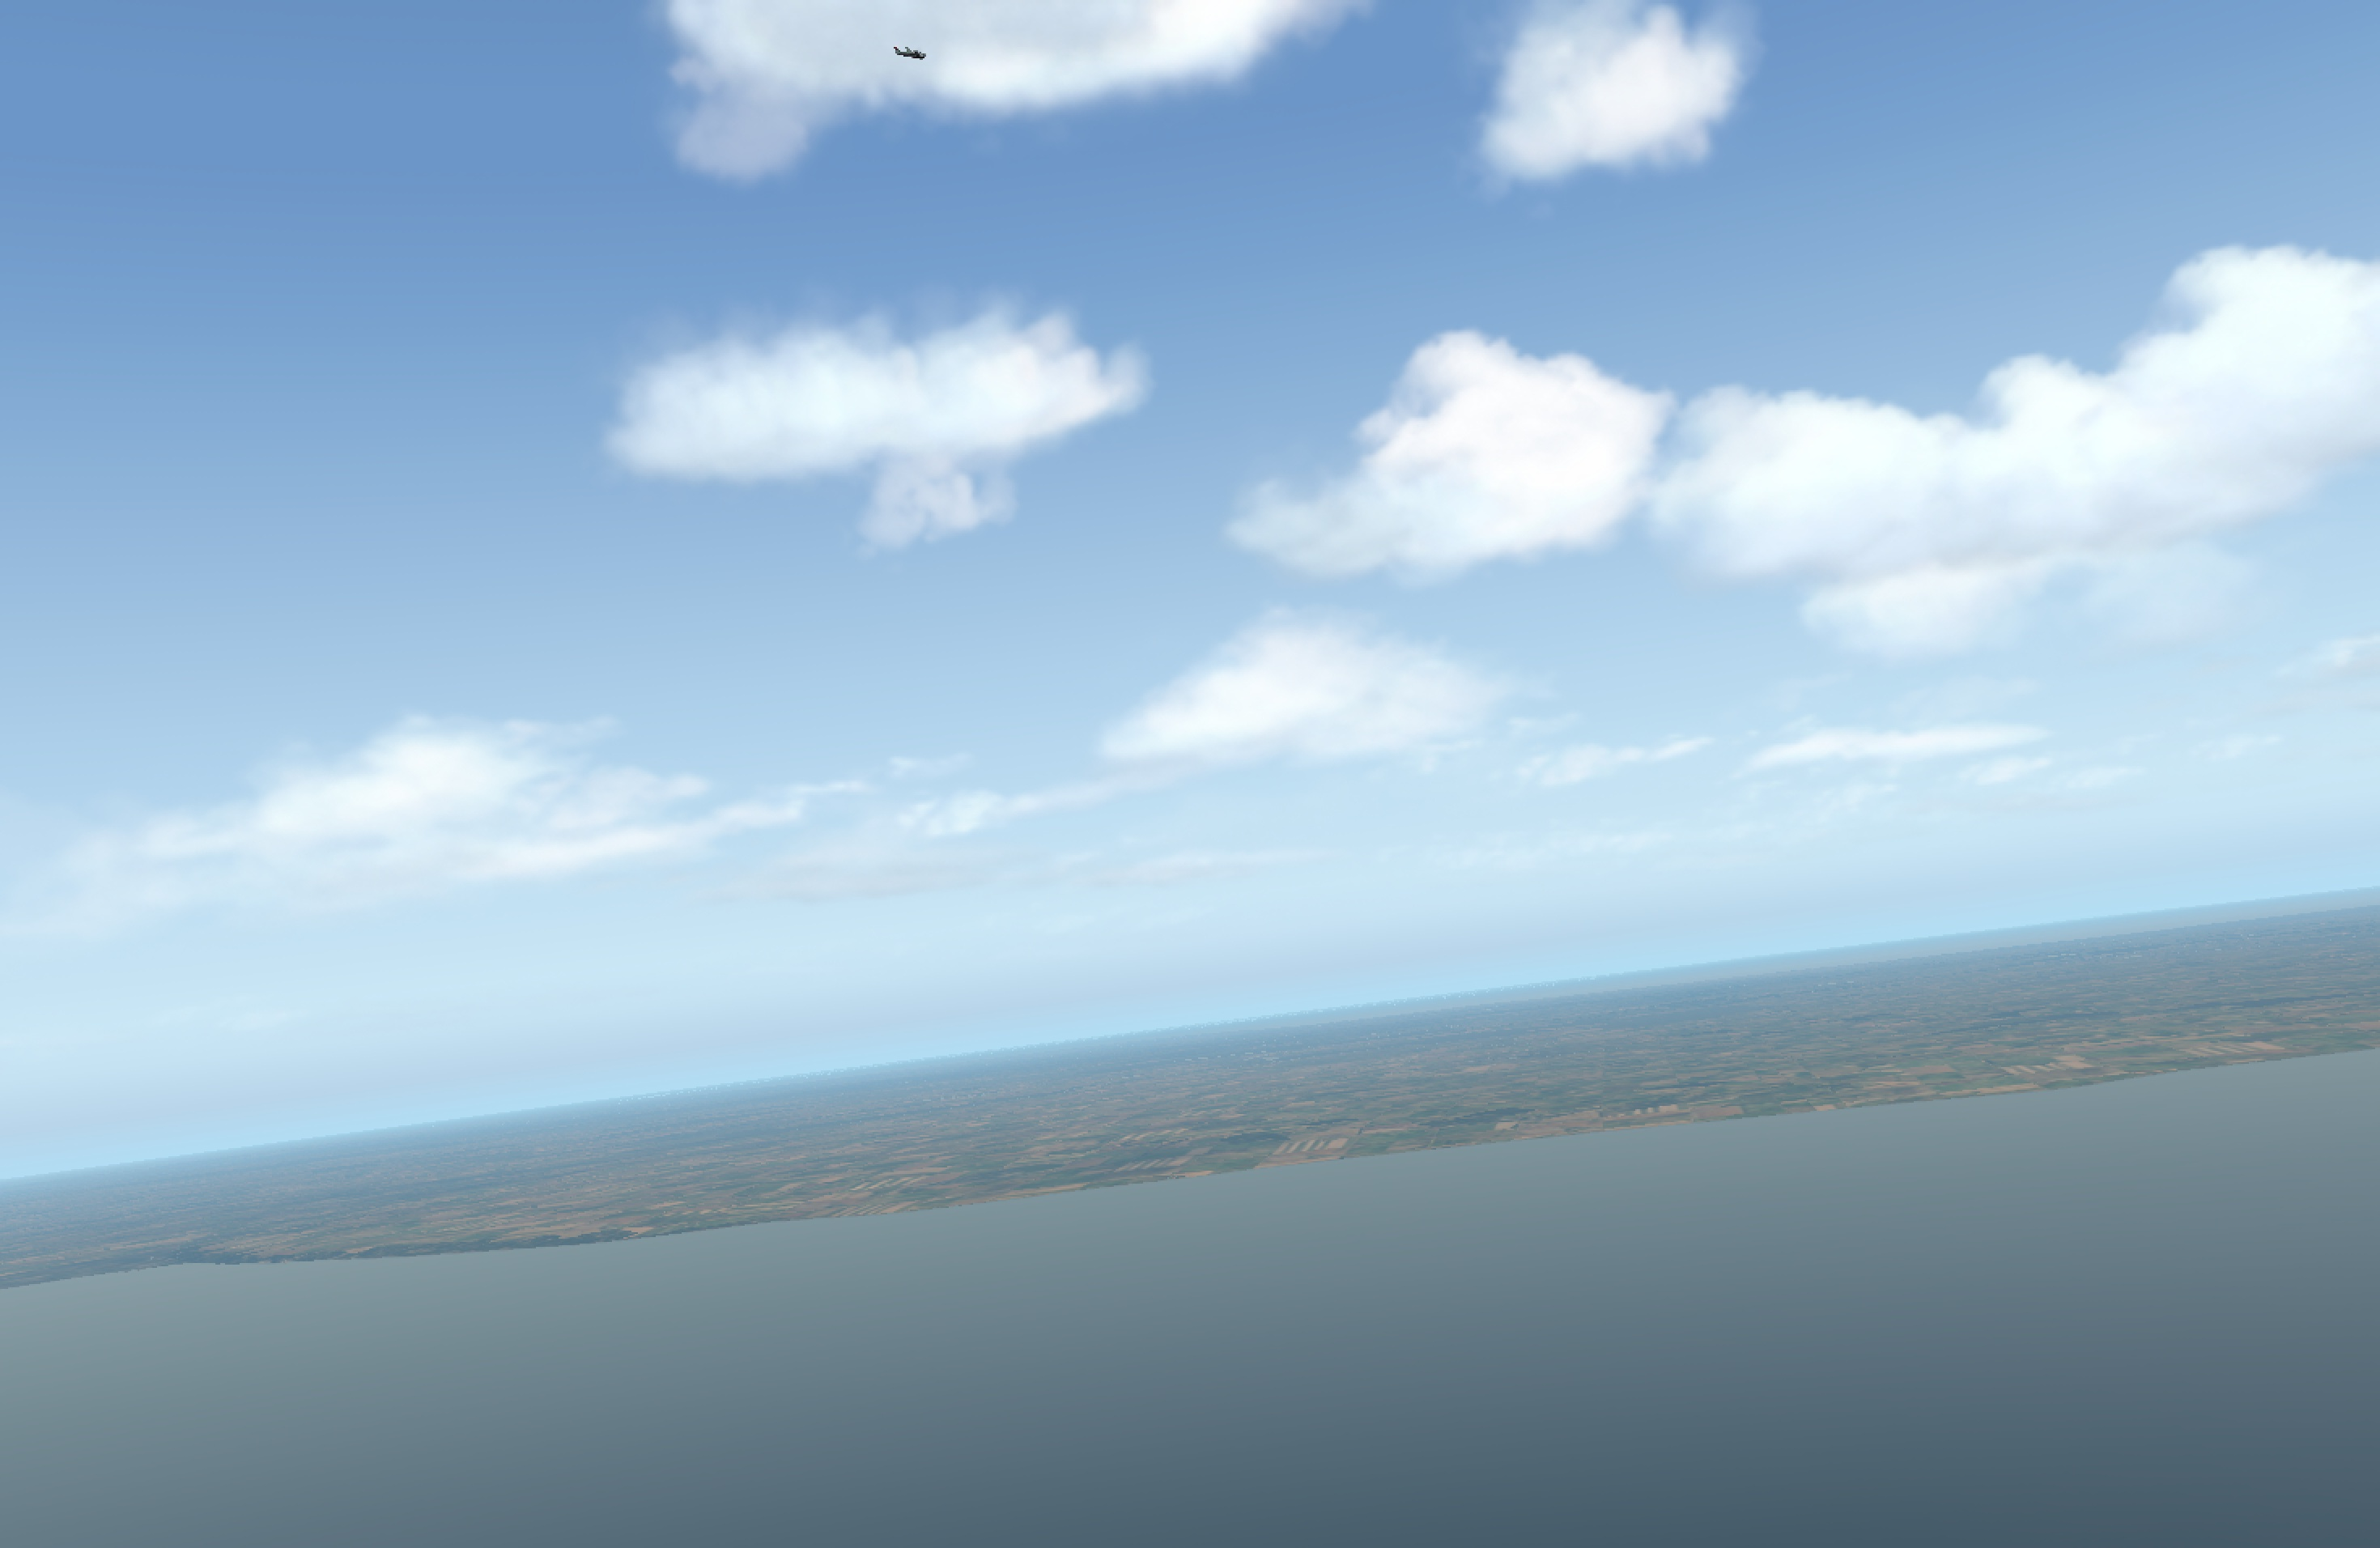aircraft: (893, 49, 938, 64)
